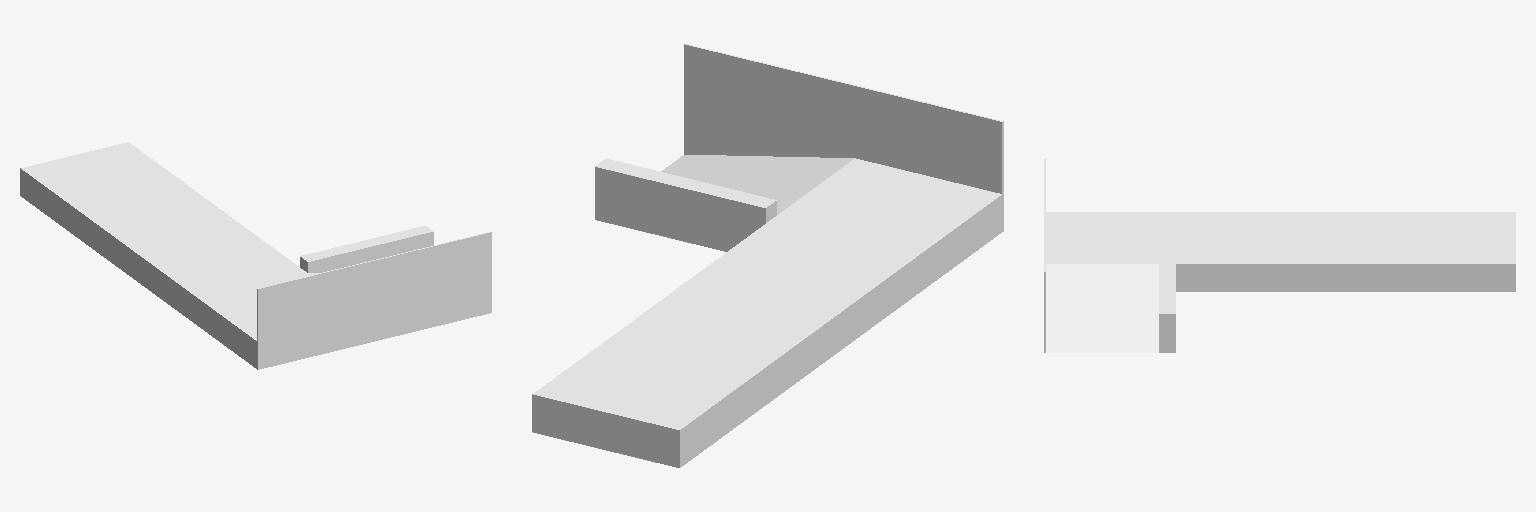
robot.urdf — R4H:
<?xml version="1.0" encoding="utf-8"?>
<!-- This URDF was automatically created by SolidWorks to URDF Exporter! Originally created by [author] ([email redacted]) 
     Commit Version: 1.6.0-4-g7f85cfe  Build Version: 1.6.7995.38578
     For more information, please see http://wiki.ros.org/sw_urdf_exporter -->
<robot name="R4H">

  <link name="R4H">
    <inertial>
      <origin xyz="1.0737 2.7047 0.2024" rpy="0 0 0" />
      <mass value="4853.4" />
      <inertia ixx="16321" ixy="2200.2" ixz="7.6305" iyy="2808.4" iyz="30.415" izz="18952" />
    </inertial>
    <visual>
      <origin xyz="0 0 0" rpy="0 0 0" />
      <geometry>
        <mesh filename="package://simplebb/meshes/R4H.STL" />
      </geometry>
      <material name="">
        <color rgba="1 1 1 1" />
      </material>
    </visual>
    <collision>
      <origin xyz="0 0 0" rpy="0 0 0" />
      <geometry>
        <mesh filename="package://simplebb/meshes/R4H.STL" />
      </geometry>
    </collision>
  </link>
</robot>

--- What the picture shows (computed from the rendered views, not written in the file) ---
3 views of the same robot in one strip: view 1: azimuth 30°, elevation 25°; view 2: azimuth 150°, elevation 25°; view 3: azimuth 270°, elevation 25° (orthographic).
Robot: R4H — 1 links, 0 joints (none); root link R4H; default pose: all joints at 0.
Links seen in each view (by area): view 1: R4H; view 2: R4H; view 3: R4H.
Link boxes in pixels (box(x1,y1,x2,y2)): R4H: box(20, 142, 491, 369); R4H: box(532, 44, 1003, 467); R4H: box(1044, 159, 1515, 352).
Bounding box of the posed robot: 3.5 × 6.17 × 1.16 m (x, y, z).
Meshes: 1 distinct files referenced, 1 mesh visuals loaded (1 binary STL).